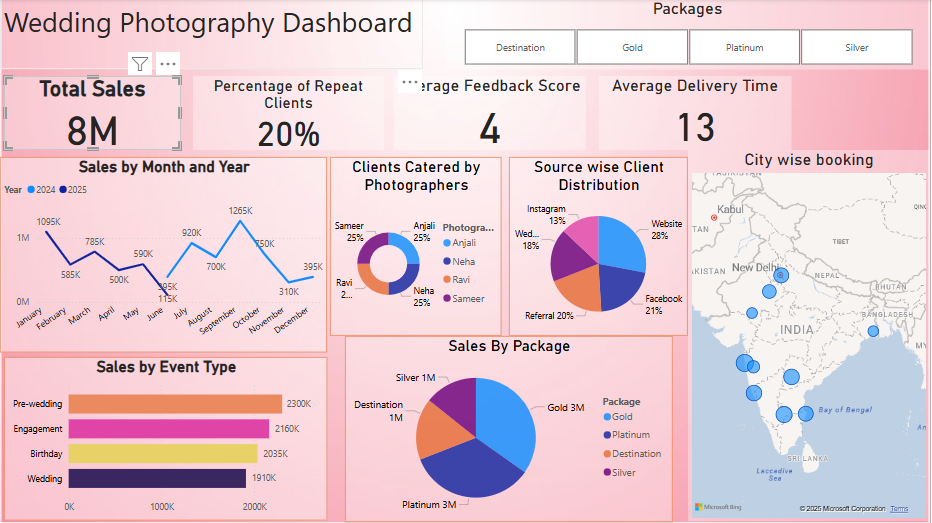

What the dashboard file says about the page in this screenshot:
{"tool":"powerbi","page":{"name":"Page 1","canvas":[1280,720],"ordinal":0},"visuals":[{"type":"pieChart","title":"Sales By Package","fields":{"Y":["Sheet1.Price"],"Category":["Sheet1.Package"]},"box":[474.8,463.4,450.5,256],"z":0},{"type":"pieChart","title":"Source wise Client Distribution","fields":{"Category":["Sheet1.Source"],"Y":["Sheet1.Package"]},"box":[700.8,217.4,246,246],"z":1000},{"type":"card","title":"Percentage of Repeat Clients","fields":{"Values":["Sheet1.Measure"]},"box":[266,105.8,263.2,101.5],"z":2000},{"type":"card","title":"Average Delivery Time","fields":{"Values":["Sheet1.Days to Deliver"]},"box":[823.8,105.8,264.6,101.5],"z":3000},{"type":"card","title":"Total Sales","fields":{"Values":["Sheet1.Price"]},"box":[5.7,105.8,243.1,101.5],"z":4000},{"type":"clusteredBarChart","title":"Sales by Event Type","fields":{"Category":["Sheet1.Event Type"],"Y":["Sheet1.Price"]},"box":[5,493,445,225],"z":5000},{"type":"card","title":"Average Feedback Score","fields":{"Values":["Sheet1.Feedback Score (1-5)"]},"box":[542.3,105.6,264.1,102.1],"z":6000},{"type":"lineChart","title":"Sales by Month and Year","fields":{"Category":["Sheet1.Shoot Date.Variation.Date Hierarchy.Month","Sheet1.Shoot Date.Variation.Date Hierarchy.Day"],"Y":["Sheet1.Price"],"Series":["Sheet1.Shoot Date.Variation.Date Hierarchy.Year"]},"box":[0,217,450,269],"z":7000},{"type":"map","title":"City wise booking","fields":{"Category":["Sheet1.City"],"Size":["Sheet1.Client Name"]},"box":[946.8,207.4,333.2,510.6],"z":8000},{"type":"donutChart","title":"Clients Catered by Photographers","fields":{"Y":["Sheet1.Photograpger Assigned"],"Category":["Sheet1.Photograpger Assigned"]},"box":[454.8,217.4,236,246],"z":9000},{"type":"textbox","box":[0,0,582.8,96.8],"z":10000},{"type":"slicer","title":"Packages","fields":{"Values":["Sheet1.Package"]},"box":[614.5,0,665.5,96.8],"z":11000}]}

Visuals, with their boxes in screenshot pixels (x1, y1, x2, y2), scaled from the page's 1280x720 canvas onto the 932x523 screenshot:
"Sales By Package" pieChart: bbox(346, 337, 674, 522)
"Source wise Client Distribution" pieChart: bbox(510, 158, 689, 337)
"Percentage of Repeat Clients" card: bbox(194, 77, 385, 151)
"Average Delivery Time" card: bbox(600, 77, 792, 151)
"Total Sales" card: bbox(4, 77, 181, 151)
"Sales by Event Type" clusteredBarChart: bbox(4, 358, 328, 522)
"Average Feedback Score" card: bbox(395, 77, 587, 151)
"Sales by Month and Year" lineChart: bbox(0, 158, 328, 353)
"City wise booking" map: bbox(689, 151, 931, 522)
"Clients Catered by Photographers" donutChart: bbox(331, 158, 503, 337)
textbox: bbox(0, 0, 424, 70)
"Packages" slicer: bbox(447, 0, 931, 70)
